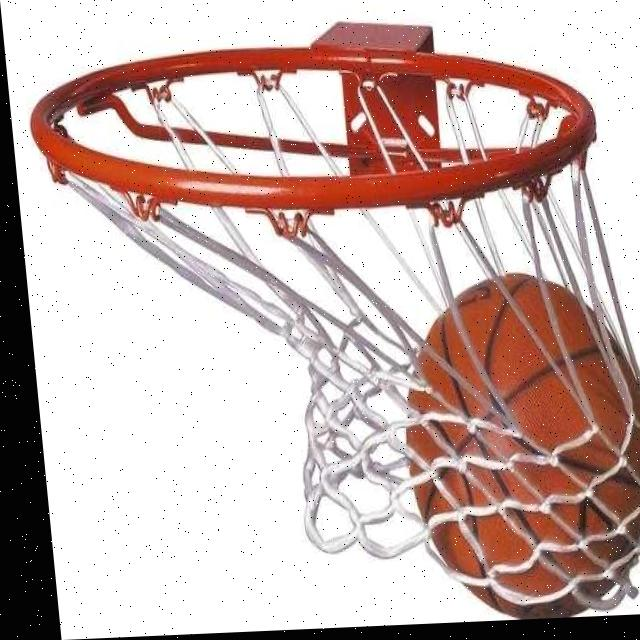Goal: (392, 265, 640, 622)
